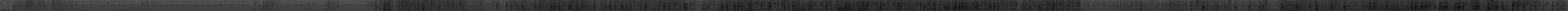Moan: (1444, 0, 1449, 11), (975, 0, 979, 11), (1458, 0, 1462, 11), (879, 0, 882, 11), (954, 0, 957, 11), (958, 0, 961, 11), (993, 0, 996, 11), (1414, 0, 1417, 11), (1487, 0, 1490, 11), (965, 0, 967, 11), (989, 0, 991, 11), (1344, 0, 1346, 11), (1462, 0, 1464, 11)
